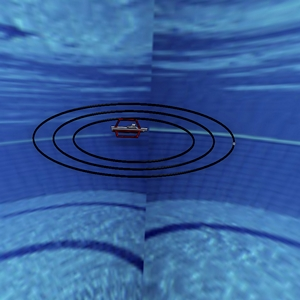circle: (26, 86, 250, 188)
submarine: (104, 111, 149, 145)
